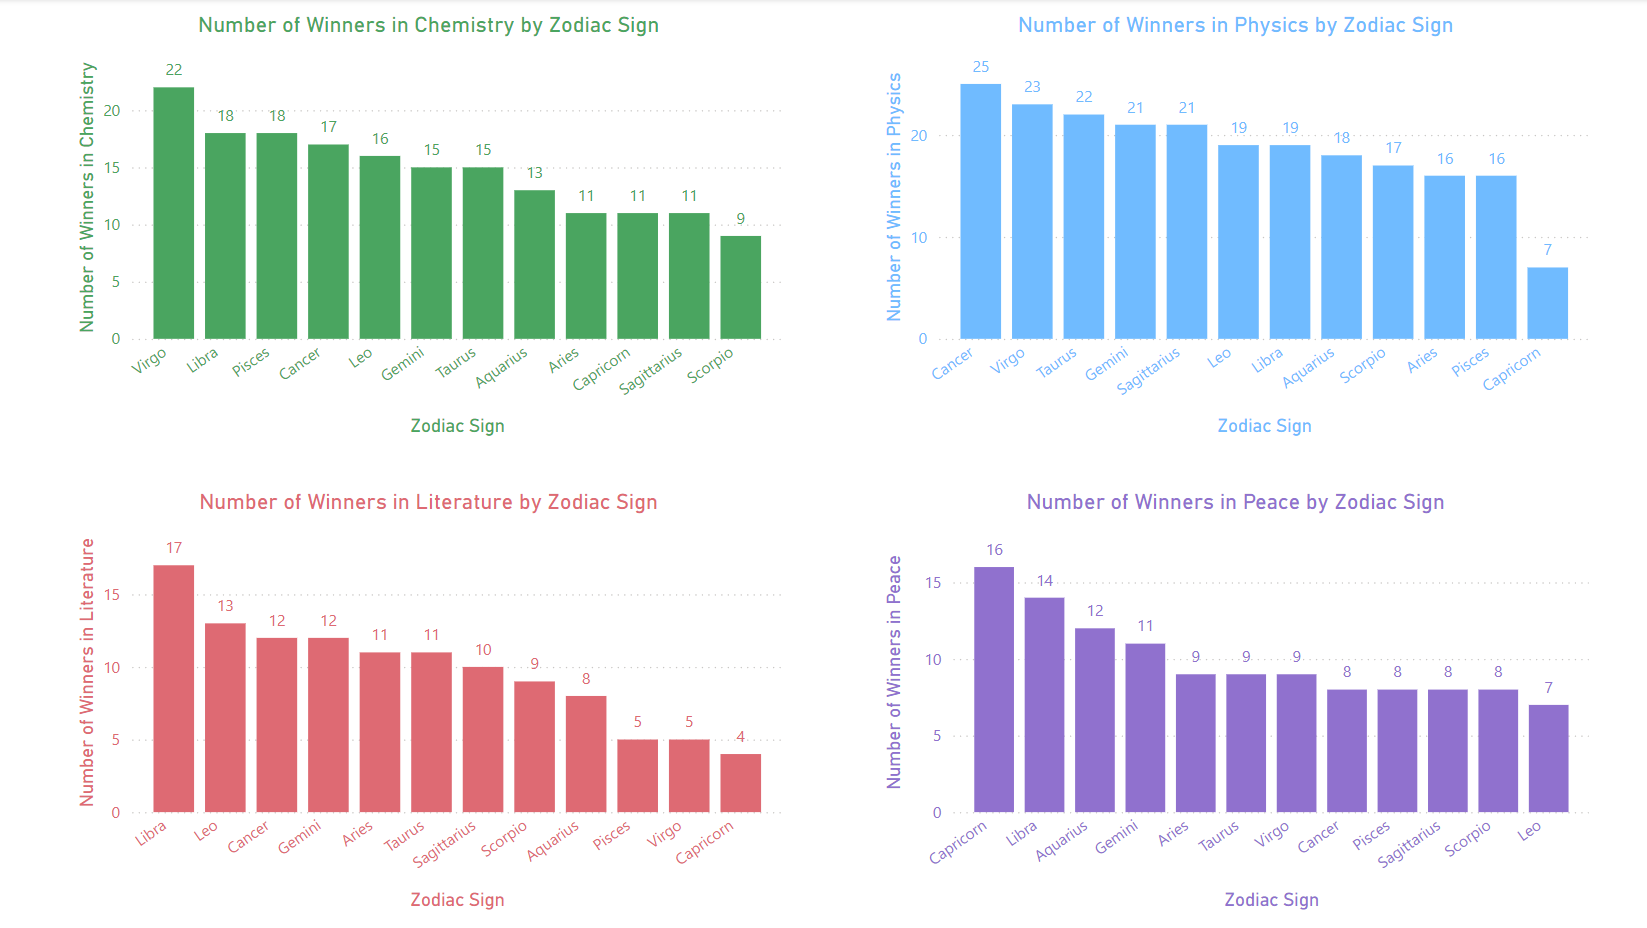

Layout of this report page (visuals, bound fields, positions):
{"tool":"powerbi","page":{"name":"Page 2","canvas":[1280,720],"ordinal":1},"visuals":[{"type":"clusteredColumnChart","fields":{"Category":["nobel.Zodiac Sign"],"Y":["CountNonNull(nobel.Prize)"]},"box":[55.7,10,555.7,332.9],"z":0},{"type":"clusteredColumnChart","fields":{"Category":["nobel.Zodiac Sign"],"Y":["CountNonNull(nobel.Prize)"]},"box":[678.6,10,555.7,332.9],"z":1000},{"type":"clusteredColumnChart","fields":{"Category":["nobel.Zodiac Sign"],"Y":["CountNonNull(nobel.Prize)"]},"box":[55.7,378.6,555.7,330],"z":2000},{"type":"clusteredColumnChart","fields":{"Category":["nobel.Zodiac Sign"],"Y":["CountNonNull(nobel.Prize)"]},"box":[678.6,378.6,555.7,330],"z":3000}]}

Visuals, with their boxes in screenshot pixels (x1, y1, x2, y2), scaled from the page's 1280x720 canvas onto the 1647x928 screenshot:
clusteredColumnChart - nobel.Zodiac Sign x CountNonNull(nobel.Prize): box(72, 13, 787, 442)
clusteredColumnChart - nobel.Zodiac Sign x CountNonNull(nobel.Prize): box(873, 13, 1588, 442)
clusteredColumnChart - nobel.Zodiac Sign x CountNonNull(nobel.Prize): box(72, 488, 787, 913)
clusteredColumnChart - nobel.Zodiac Sign x CountNonNull(nobel.Prize): box(873, 488, 1588, 913)
